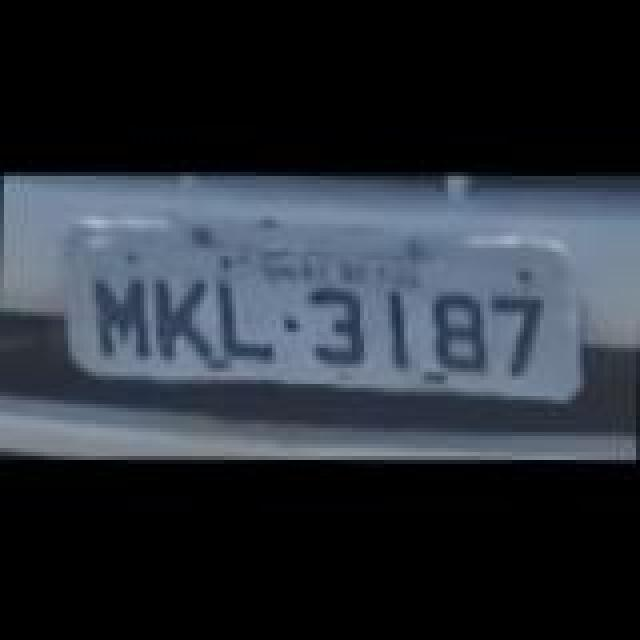1: (384, 292, 416, 368)
3: (302, 284, 370, 364)
7: (492, 292, 556, 376)
8: (430, 292, 498, 372)
K: (154, 274, 222, 358)
L: (216, 278, 280, 362)
M: (90, 272, 158, 356)
